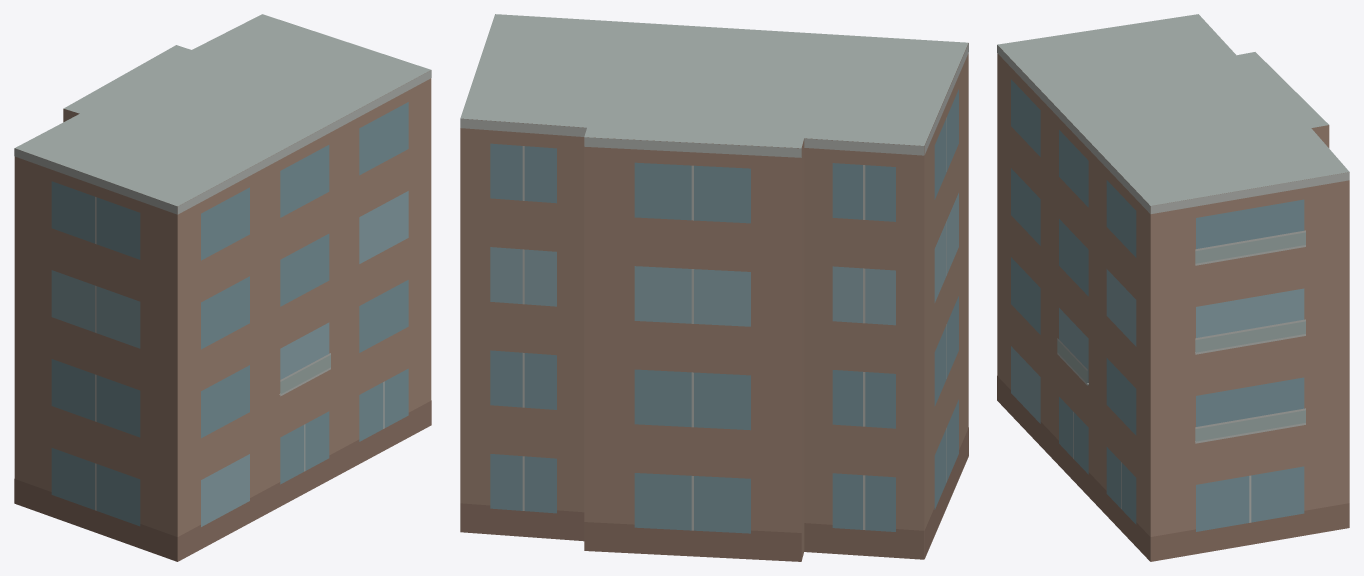
File: survey-upis-32684521.glb
3 views of the same model, side by side, from view 1: azimuth 30°, elevation 25°; view 2: azimuth 150°, elevation 25°; view 3: azimuth 270°, elevation 25° (orthographic). The views are drawn at different scales.
Visible parts, largest first — view 1: survey-upis-32684521.tmp; view 2: survey-upis-32684521.tmp; view 3: survey-upis-32684521.tmp.
Boxes of the visible parts, x1,y1,x2,y2 form: survey-upis-32684521.tmp: (14, 14, 431, 561); survey-upis-32684521.tmp: (460, 14, 968, 561); survey-upis-32684521.tmp: (997, 14, 1349, 561).
Bounding box in the file's own units: 12.16 × 10.5 × 9.44.
